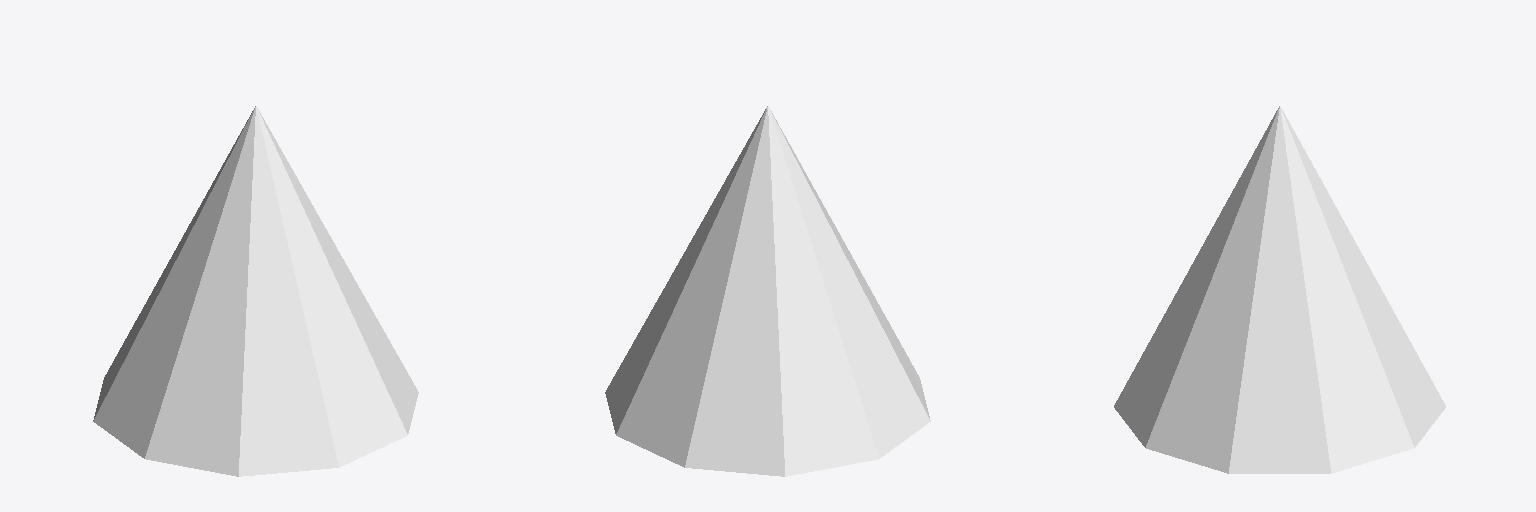
The model's file is t2_primitives.obj.
3 renders of one model, left to right at view 1: azimuth 30°, elevation 25°; view 2: azimuth 150°, elevation 25°; view 3: azimuth 270°, elevation 25°, orthographic.
Parts seen in each view (by area): view 1: cone-Submesh; view 2: cone-Submesh; view 3: cone-Submesh.
Part boxes in pixels (bbox=[...]): cone-Submesh: bbox=[93, 106, 418, 476]; cone-Submesh: bbox=[605, 106, 930, 476]; cone-Submesh: bbox=[1114, 106, 1445, 473].
Bounding box in the file's own units: 0.9511 × 1 × 1.